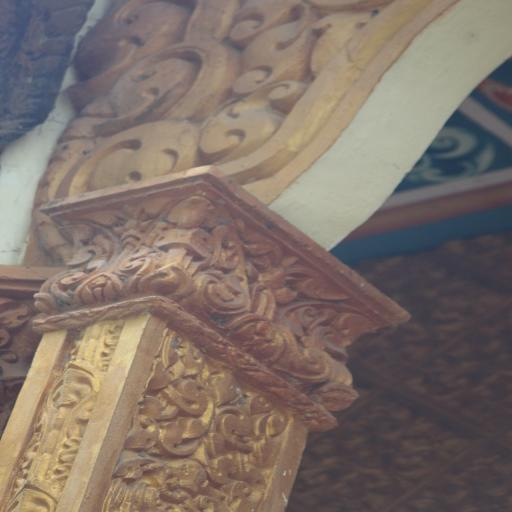la: (150, 361, 284, 463), (22, 360, 110, 488), (221, 309, 343, 383), (42, 252, 188, 311), (118, 451, 252, 512), (184, 251, 250, 317)
lua: (103, 40, 245, 116), (70, 120, 189, 184), (233, 19, 320, 95), (203, 94, 279, 158)
